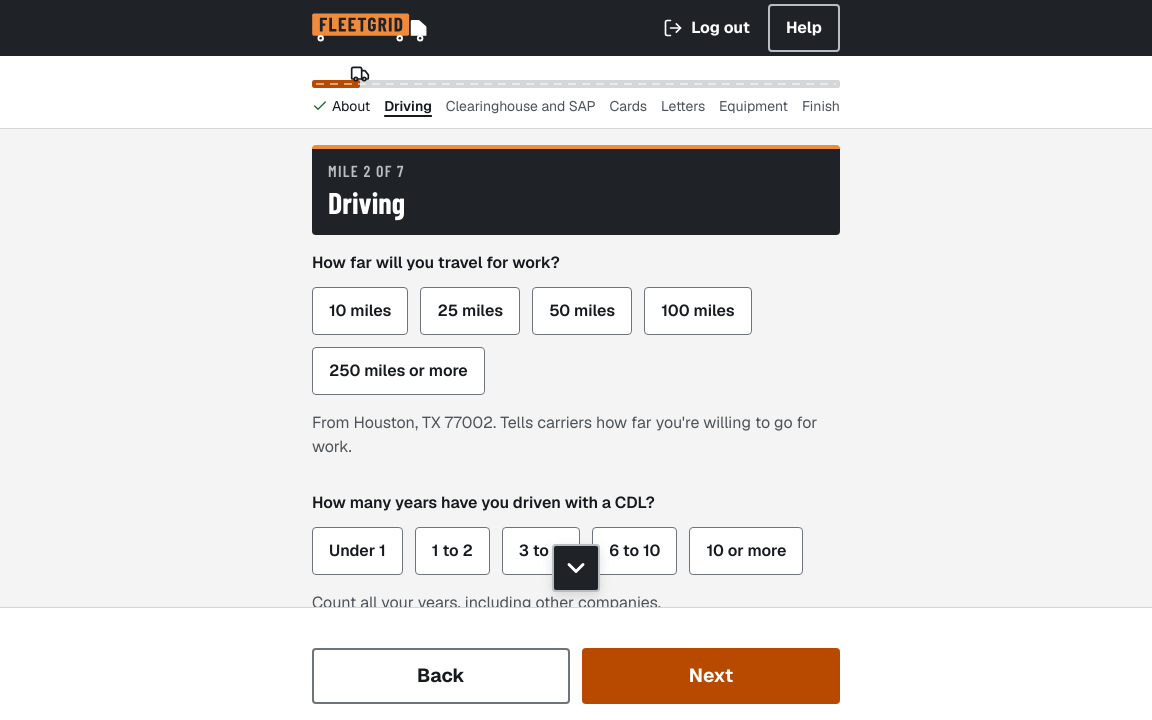
Test: About page, the lead: name, ZIP, class and the optional box on one screen › Back from the Driving page returns to the About page with the saved answers
Click the button "Back" at (441, 676), box [312,648,570,704]
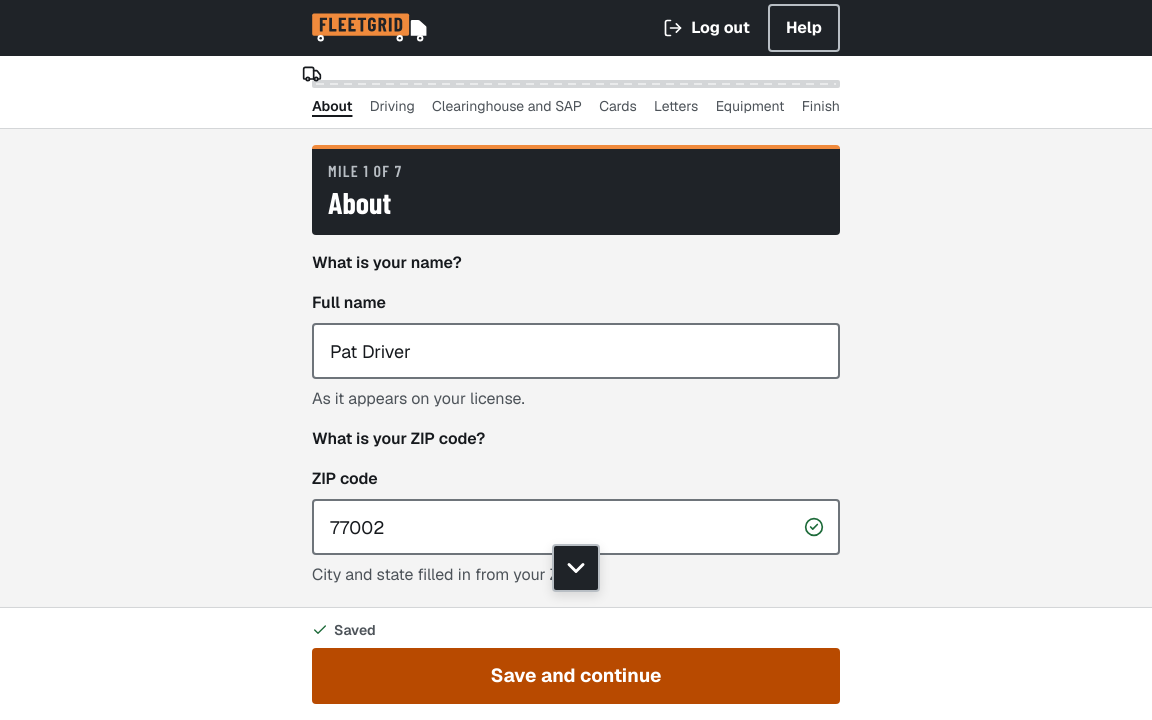
Expected: the element showing "Houston, TX" is shown, [311,603,423,625]
Now the heading "About" is shown, box [328,184,391,220]
Now the field labelled "Full name" holds "Pat Driver", box [312,323,840,379]
